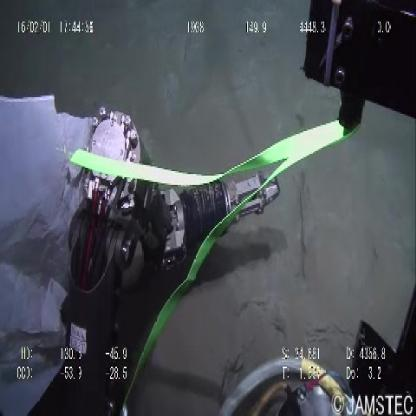Rov: (64, 102, 284, 325)
Rác: (1, 88, 94, 364)
